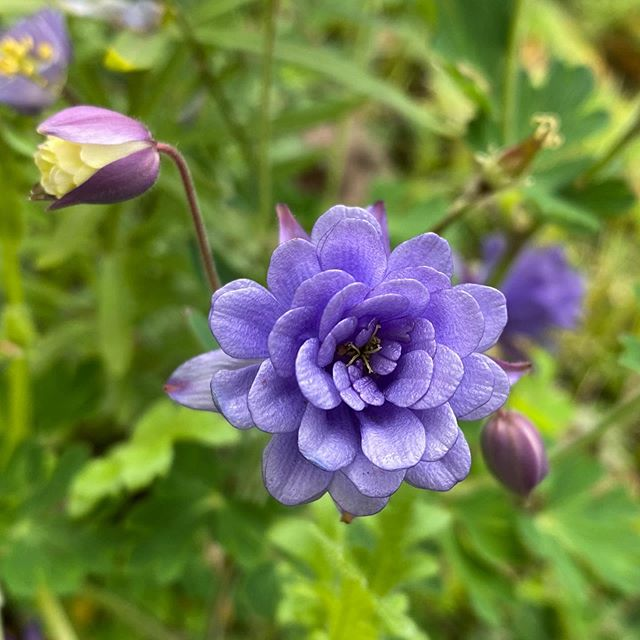flowers: (15, 15, 640, 632)
